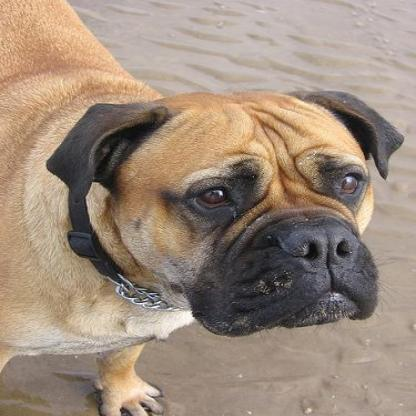bull_mastiff: (0, 0, 404, 414)
